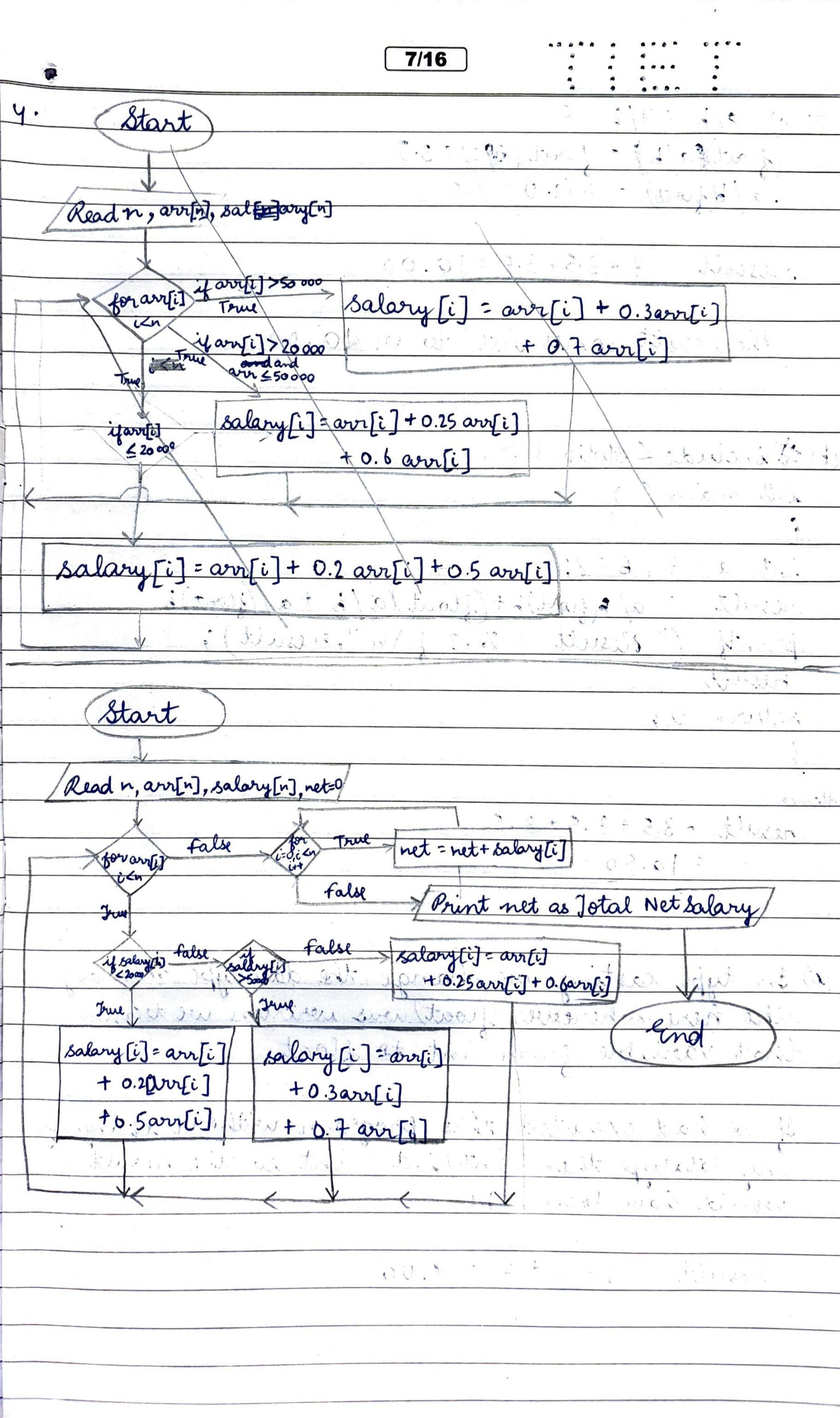cuttings: (12, 98, 734, 653)
